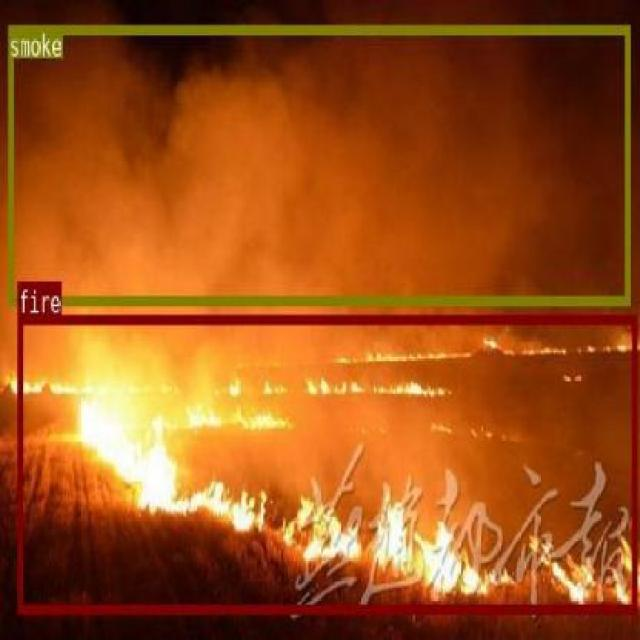fire: (17, 313, 636, 612)
smoke: (8, 24, 630, 302)
